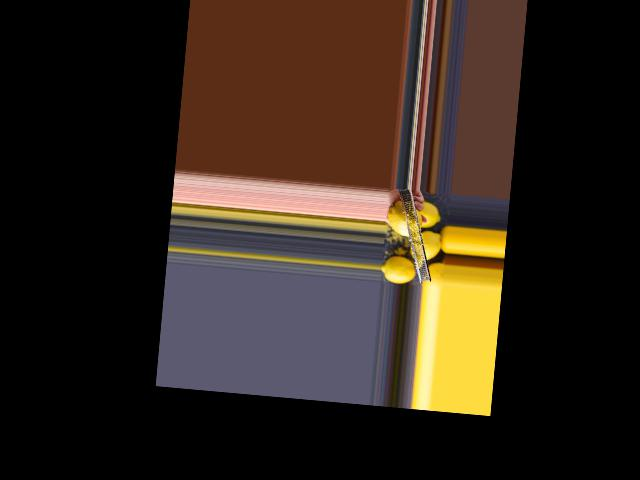lemon: (381, 249, 416, 284)
